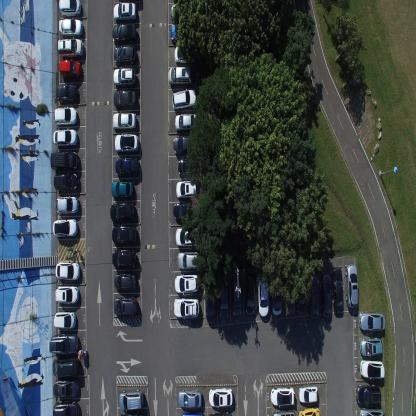car: (49, 332, 78, 354), (345, 263, 358, 311), (172, 296, 199, 319), (50, 149, 79, 170), (172, 135, 200, 156), (111, 223, 137, 245), (355, 384, 381, 406), (118, 388, 144, 410), (52, 170, 79, 191), (269, 387, 296, 408), (170, 2, 197, 23), (330, 268, 342, 314), (172, 90, 197, 112), (174, 112, 199, 134), (58, 57, 83, 79), (231, 268, 242, 318), (174, 226, 200, 247), (109, 200, 135, 221), (57, 36, 84, 56), (51, 356, 78, 376), (270, 272, 282, 317), (168, 66, 192, 88), (320, 275, 332, 319), (218, 273, 229, 321), (257, 271, 268, 319), (111, 247, 136, 268), (171, 24, 197, 44), (112, 23, 138, 43), (52, 216, 78, 236), (205, 275, 216, 322), (114, 87, 137, 109), (113, 0, 136, 22), (112, 294, 136, 315), (115, 156, 139, 177), (115, 132, 139, 153), (360, 360, 384, 381), (177, 158, 202, 178), (55, 260, 80, 280), (308, 275, 319, 320), (359, 313, 385, 332), (172, 202, 199, 220), (51, 378, 78, 396), (284, 272, 295, 316), (113, 111, 137, 131), (113, 66, 137, 86), (174, 46, 198, 66), (114, 43, 138, 63), (54, 104, 78, 124), (174, 273, 198, 293), (177, 388, 201, 408), (208, 387, 232, 407), (52, 398, 78, 416), (113, 270, 136, 290), (55, 194, 78, 214), (53, 309, 76, 329), (176, 250, 199, 270), (296, 270, 306, 316), (175, 180, 199, 199), (54, 127, 78, 146), (59, 17, 83, 36), (54, 284, 79, 302), (245, 268, 254, 317), (110, 180, 134, 198), (359, 338, 383, 356), (58, 0, 82, 18), (57, 82, 78, 102), (297, 385, 319, 404), (298, 406, 320, 416), (359, 408, 385, 416), (271, 408, 296, 415), (208, 409, 232, 415), (180, 410, 204, 415), (118, 412, 145, 415)
